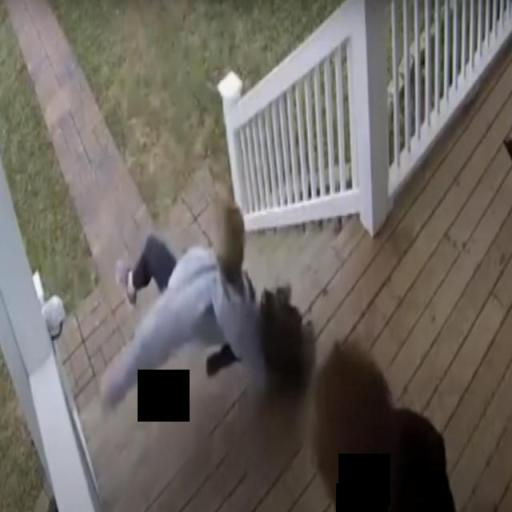Fall: (98, 196, 269, 411)
